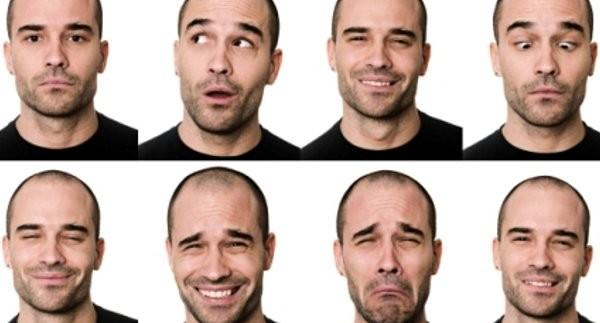feliz: (0, 167, 107, 315), (325, 0, 434, 122)
normal: (3, 0, 110, 115)
surpreso: (168, 0, 285, 134)
triste: (332, 171, 446, 323)
